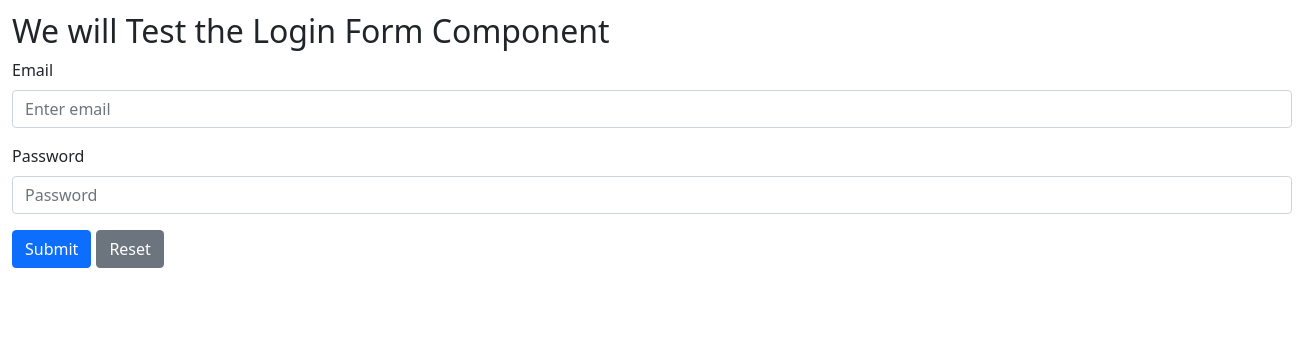
Test: Test the Login Component › should be able to submit the form
Type "sameer@gmail.com" into the field with placeholder "Enter email". click: [652, 109]
box: [12,90,1292,128]
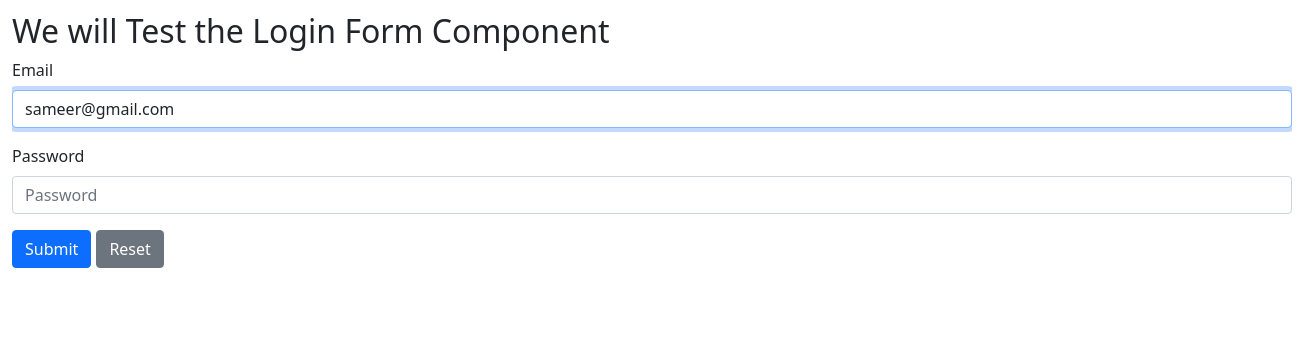
Type "123456789" into the password field with placeholder "Password". click: [652, 195]
box: [12,176,1292,214]
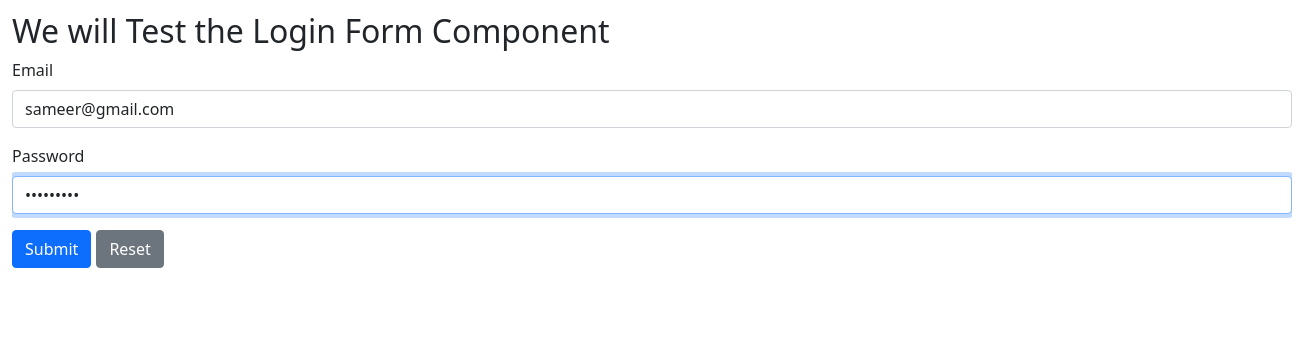
Click the button with test id "submit". click: [52, 249]
box: [12,230,91,268]
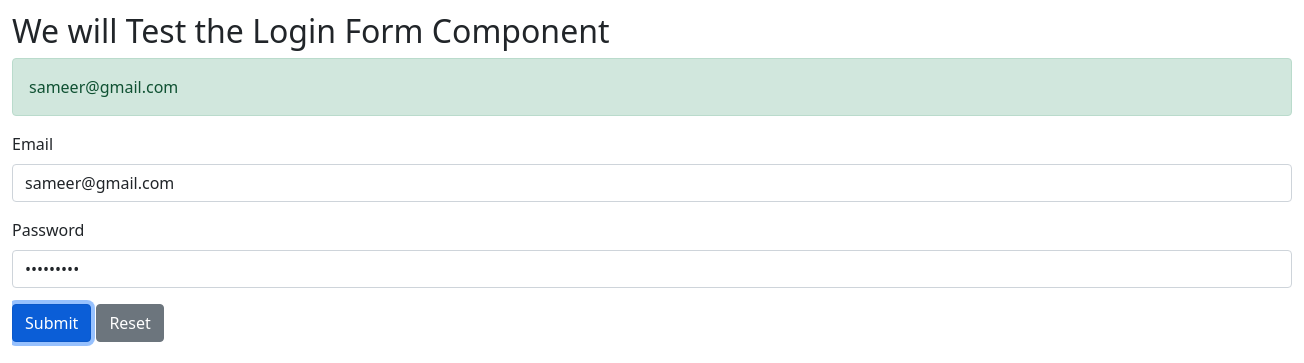
Expected: the text "sameer@gmail.com" is shown, [12,58,1292,116]
